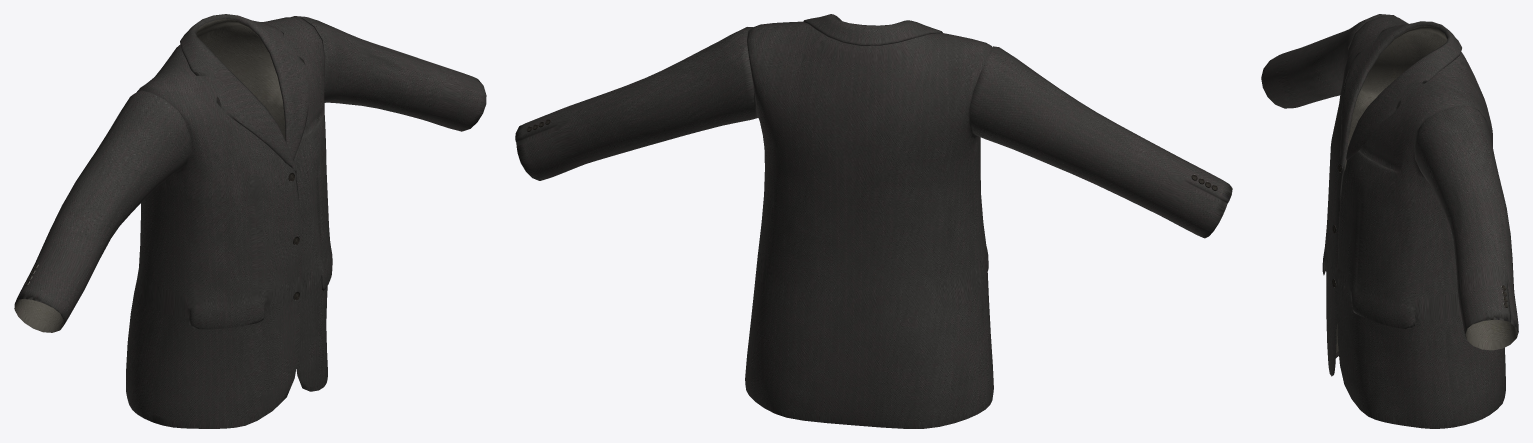
The model's file is man.obj.
The picture shows the model from 3 angles, left to right: view 1: azimuth 30°, elevation 25°; view 2: azimuth 150°, elevation 25°; view 3: azimuth 270°, elevation 25°; orthographic projection. The views are drawn at different scales.
Parts seen in each view (by area): view 1: ObjectFBXASC032FBXASC0350 _3DFBXASC229FBXASC173FBXASC166FBXASC23; view 2: ObjectFBXASC032FBXASC0350 _3DFBXASC229FBXASC173FBXASC166FBXASC23; view 3: ObjectFBXASC032FBXASC0350 _3DFBXASC229FBXASC173FBXASC166FBXASC23.
Part boxes in pixels (x1,y1,x2,y2): ObjectFBXASC032FBXASC0350 _3DFBXASC229FBXASC173FBXASC166FBXASC23: (14,14,486,428); ObjectFBXASC032FBXASC0350 _3DFBXASC229FBXASC173FBXASC166FBXASC23: (515,14,1232,428); ObjectFBXASC032FBXASC0350 _3DFBXASC229FBXASC173FBXASC166FBXASC23: (1261,14,1518,428).
Bounding box in the file's own units: 3.26 × 1.98 × 1.33.
Materials: 1 (1 with a texture image).
